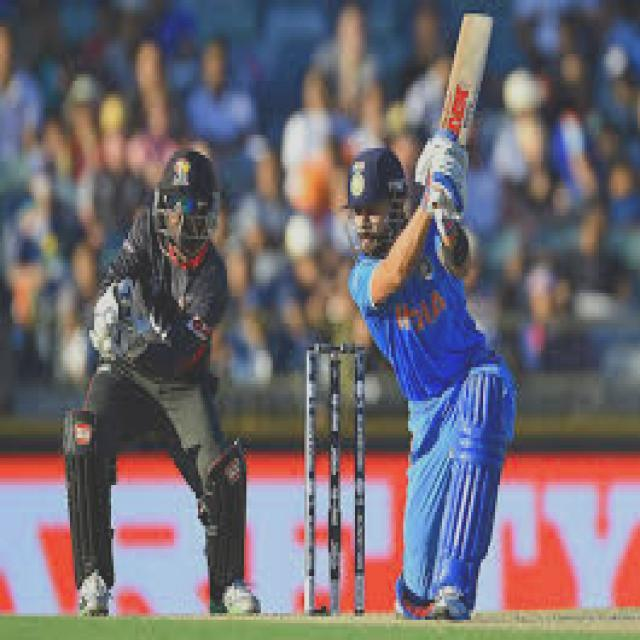bat: (440, 9, 495, 147)
toe: (460, 11, 501, 24)
